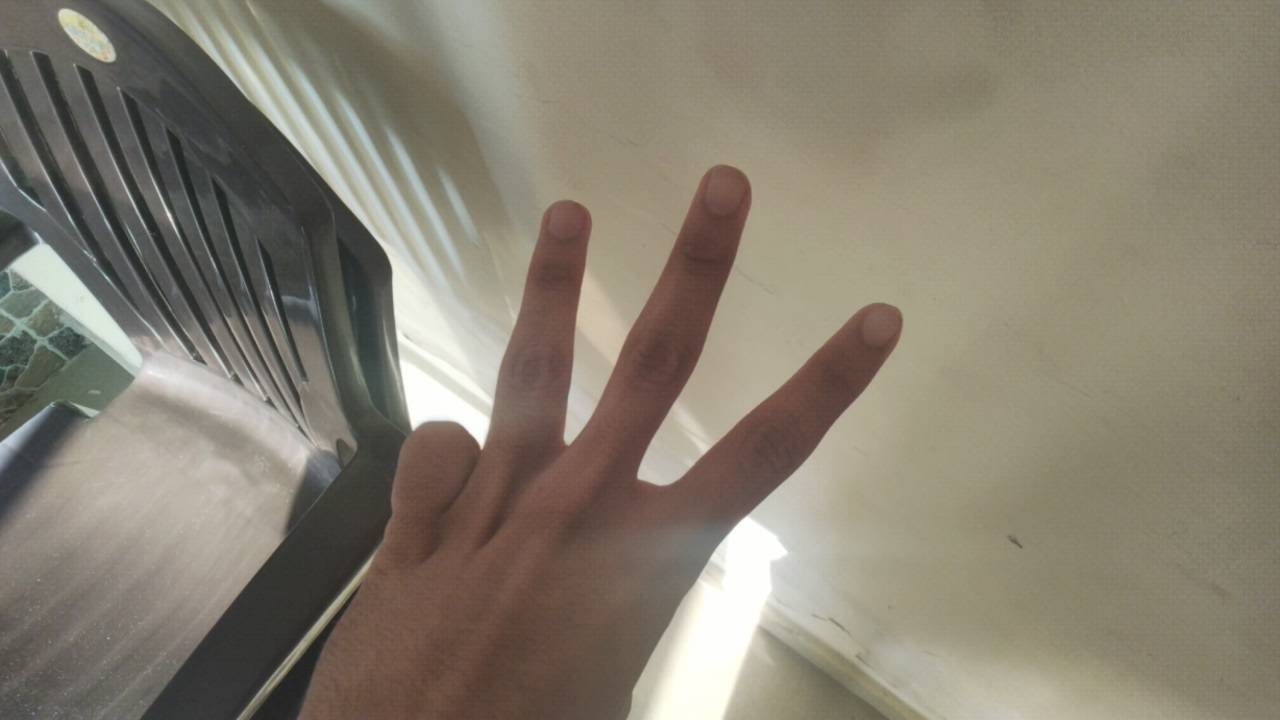fingertip: (690, 162, 758, 220), (532, 194, 596, 252), (848, 298, 912, 350)
